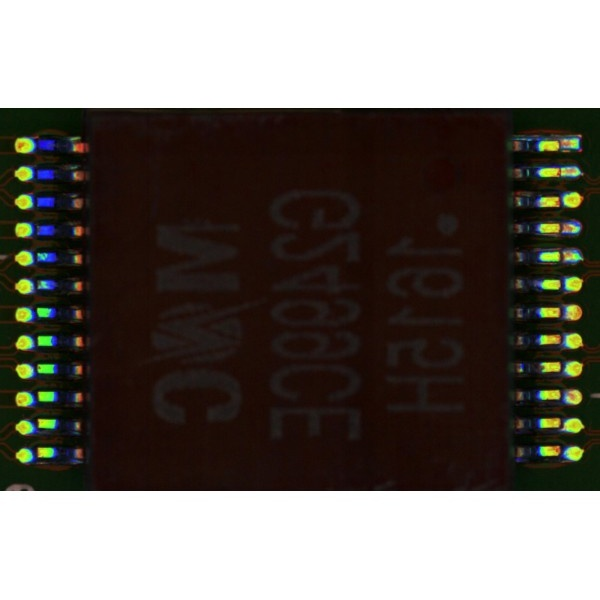Bad_podu: (553, 252, 571, 261), (552, 141, 572, 149), (551, 168, 573, 174), (553, 225, 571, 232)
